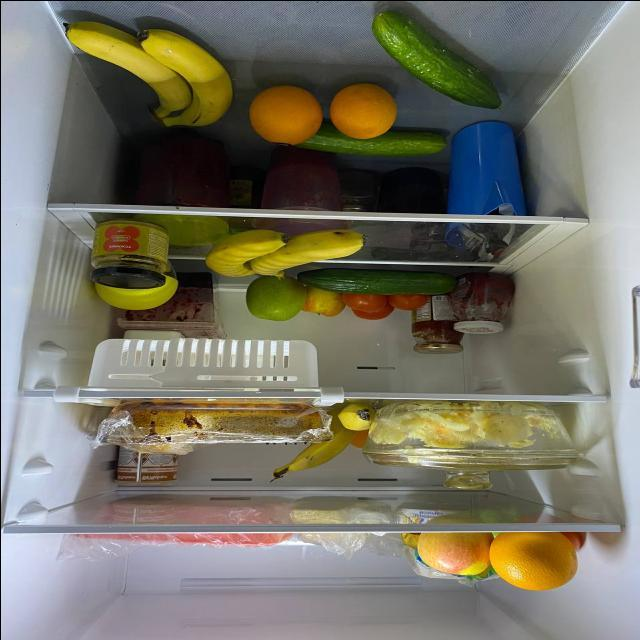Apple: (417, 525, 491, 577), (238, 281, 308, 323), (294, 289, 344, 321)
Banana: (62, 19, 230, 144), (264, 419, 358, 477), (257, 229, 363, 278), (202, 223, 280, 281), (332, 405, 376, 433)
Cucumber: (372, 9, 504, 107), (274, 125, 450, 158), (295, 269, 461, 292)
Orange: (488, 528, 576, 593), (241, 79, 323, 146), (322, 82, 397, 142), (348, 431, 371, 448)
Tomato: (550, 515, 590, 554), (340, 292, 384, 315), (351, 301, 393, 321), (386, 295, 431, 311)
